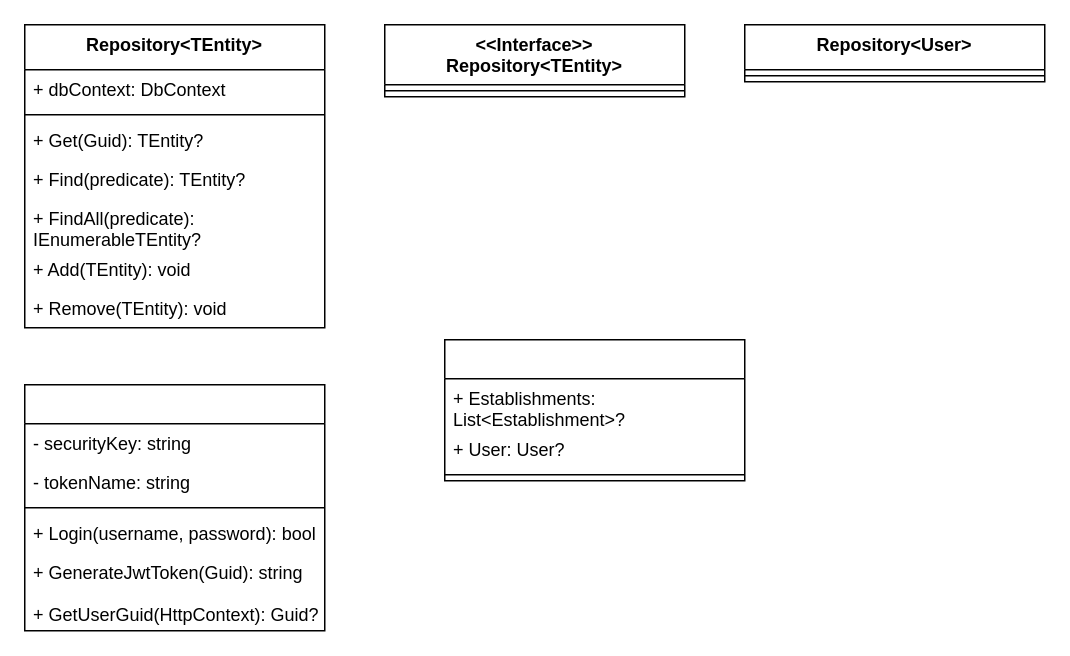
The diagram is 1070 pixels wide and 656 high, and some of its shapes have lost their labels. The box of each missing label's shape, as (x1, y1, x2, y2) in pixels:
AuthService: (23, 383, 325, 631)
UserContextService: (443, 338, 745, 481)
